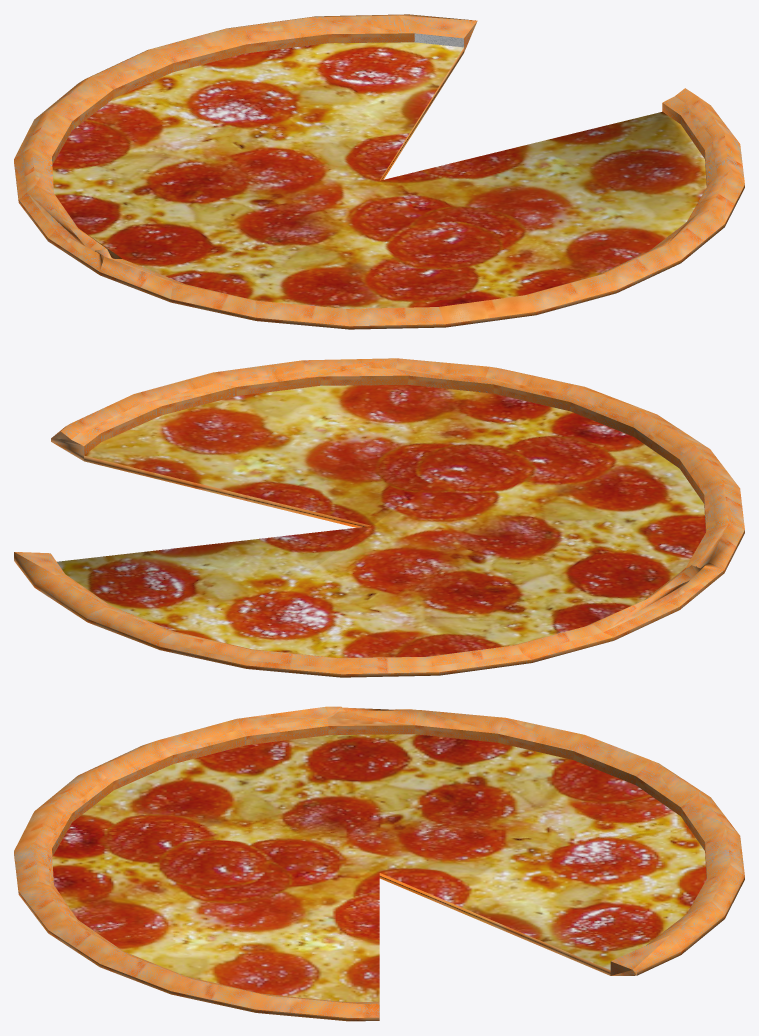
Rendered from 12pizza.dae.
3 views of the same model, one above another, from view 1: azimuth 30°, elevation 25°; view 2: azimuth 150°, elevation 25°; view 3: azimuth 270°, elevation 25° (orthographic).
Visible parts, largest first — view 1: SketchUp (×6); view 2: SketchUp (×5); view 3: SketchUp (×6).
Boxes of the visible parts, x1=… form: SketchUp (×6): x1=14, y1=14, x2=744, y2=329; SketchUp (×5): x1=14, y1=358, x2=744, y2=677; SketchUp (×6): x1=14, y1=706, x2=744, y2=1021.
Size of the model in its own units: 7.31 by 7.31 by 0.2633.
6 materials, 3 textured.
